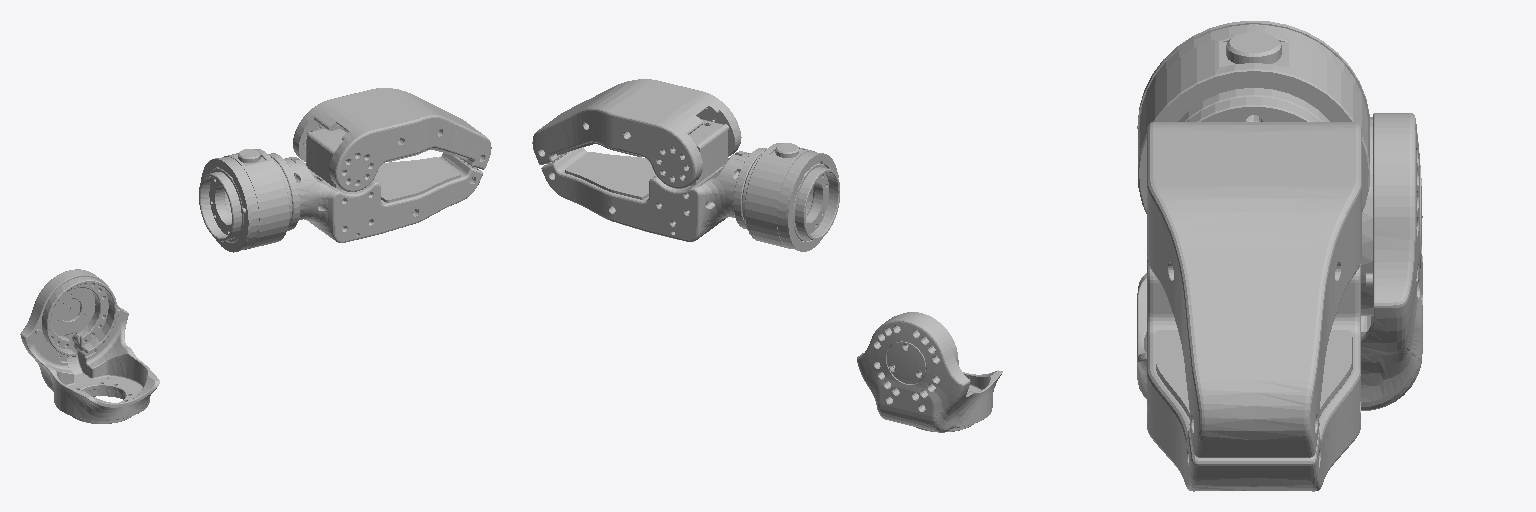
URDF robot description (qa01_description):
<?xml version="1.0" encoding="utf-8"?>
<!-- This URDF was automatically created by SolidWorks to URDF Exporter! Originally created by [author] ([email redacted]) 
     Commit Version: 1.5.1-0-g916b5db  Build Version: 1.5.7152.31018
     For more information, please see http://wiki.ros.org/sw_urdf_exporter -->
<robot name="qa01_description">
  <link name="world" />
  <joint name="world_fixed" type="fixed">
    <parent link="world" />
    <child link="base_link" />
  </joint>
  <link name="base_link">
    <inertial>
      <origin xyz="0.000195653402762227 -0.000162311522469217 0.0574958896482889" rpy="0 0 0" />
      <mass value="1.0" />
      <inertia ixx="0.00311361610491872" ixy="-4.99454350054416E-07" ixz="4.79136860967576E-05" iyy="0.00293646133501491" iyz="8.9155188763081E-07" izz="0.0026818264965758" />
    </inertial>
    <visual>
      <origin xyz="0 0 0" rpy="0 0 0" />
      <geometry>
        <mesh filename="package://qa01_description/meshes/base_link.dae" />
      </geometry>
      <material name="">
        <color rgba="0.752941176470588 0.752941176470588 0.752941176470588 1" />
      </material>
    </visual>
    <collision>
      <origin xyz="0 0 0" rpy="0 0 0" />
      <geometry>
        <mesh filename="package://qa01_description/meshes/base_link.dae" />
      </geometry>
    </collision>
  </link>
  <link name="Link1">
    <inertial>
      <origin xyz="3.3791E-05 0.030742 0.030107" rpy="0 0 0" />
      <mass value="1.0" />
      <inertia ixx="0.00097955" ixy="1.0431E-06" ixz="4.3103E-07" iyy="0.00091672" iyz="-0.00025756" izz="0.0008983" />
    </inertial>
    <visual>
      <origin xyz="0 0 0" rpy="0 0 0" />
      <geometry>
        <mesh filename="package://qa01_description/meshes/Link1.dae" />
      </geometry>
      <material name="">
        <color rgba="0.75294 0.75294 0.75294 1" />
      </material>
    </visual>
    <collision>
      <origin xyz="0 0 0" rpy="0 0 0" />
      <geometry>
        <mesh filename="package://qa01_description/meshes/Link1.dae" />
      </geometry>
    </collision>
  </link>
  <joint name="Joint1" type="revolute">
    <origin xyz="-0.00010406 0 0.1065" rpy="0 0 0" />
    <parent link="base_link" />
    <child link="Link1" />
    <axis xyz="0 0 1" />
    <dynamics damping="0.01" friction="0.2"/>
    <limit lower="-3.14" upper="3.14" effort="40" velocity="20" />
  </joint>
  <link name="Link2">
    <inertial>
      <origin xyz="-0.18482 -0.046183 0.00013831" rpy="0 0 0" />
      <mass value="1.0" />
      <inertia ixx="0.0050066" ixy="-0.00022613" ixz="-9.8666E-06" iyy="0.056029" iyz="-5.1141E-06" izz="0.055834" />
    </inertial>
    <visual>
      <origin xyz="0 0 0" rpy="0 0 0" />
      <geometry>
        <mesh filename="package://qa01_description/meshes/Link2.dae" />
      </geometry>
      <material name="">
        <color rgba="0.75294 0.75294 0.75294 1" />
      </material>
    </visual>
    <collision>
      <origin xyz="0 0 0" rpy="0 0 0" />
      <geometry>
        <mesh filename="package://qa01_description/meshes/Link2.dae" />
      </geometry>
    </collision>
  </link>
  <joint name="Joint2" type="revolute">
    <origin xyz="0 0.041 0.058" rpy="0 0 0" />
    <parent link="Link1" />
    <child link="Link2" />
    <axis xyz="0 1 0" />
    <dynamics damping="0.01" friction="0.2"/>
    <limit lower="-3.14" upper="3.14" effort="40" velocity="20" />
  </joint>
  <link name="Link3">
    <inertial>
      <origin xyz="0.077248 -0.026984 0.072742" rpy="0 0 0" />
      <mass value="1.0" />
      <inertia ixx="0.0032105" ixy="0.00021256" ixz="-0.001008" iyy="0.005396" iyz="0.0002511" izz="0.0038613" />
    </inertial>
    <visual>
      <origin xyz="0 0 0" rpy="0 0 0" />
      <geometry>
        <mesh filename="package://qa01_description/meshes/Link3.dae" />
      </geometry>
      <material name="">
        <color rgba="0.75294 0.75294 0.75294 1" />
      </material>
    </visual>
    <collision>
      <origin xyz="0 0 0" rpy="0 0 0" />
      <geometry>
        <mesh filename="package://qa01_description/meshes/Link3.dae" />
      </geometry>
    </collision>
  </link>
  <joint name="Joint3" type="revolute">
    <origin xyz="-0.41 -0.0095 0" rpy="0 0 0" />
    <parent link="Link2" />
    <child link="Link3" />
    <axis xyz="0 -1 0" />
    <dynamics damping="0.01" friction="0.2"/>
    <limit lower="-3.14" upper="3.14" effort="40" velocity="20" />
  </joint>
  <link name="Link4">
    <inertial>
      <origin xyz="0.19616 -0.0045978 1.2153E-05" rpy="0 0 0" />
      <mass value="1.0" />
      <inertia ixx="0.0024186" ixy="-0.00014288" ixz="6.5518E-07" iyy="0.012898" iyz="1.9994E-06" izz="0.012751" />
    </inertial>
    <visual>
      <origin xyz="0 0 0" rpy="0 0 0" />
      <geometry>
        <mesh filename="package://qa01_description/meshes/Link4.dae" />
      </geometry>
      <material name="">
        <color rgba="0.75294 0.75294 0.75294 1" />
      </material>
    </visual>
    <collision>
      <origin xyz="0 0 0" rpy="0 0 0" />
      <geometry>
        <mesh filename="package://qa01_description/meshes/Link4.dae" />
      </geometry>
    </collision>
  </link>
  <joint name="Joint4" type="revolute">
    <origin xyz="0.1415 -0.0315 0.085" rpy="0 0 0" />
    <parent link="Link3" />
    <child link="Link4" />
    <axis xyz="1 0 0" />
    <dynamics damping="0.01" friction="0.2"/>
    <limit lower="-3.14" upper="3.14" effort="40" velocity="20" />
  </joint>
  <link name="Link5">
    <inertial>
      <origin xyz="0.077697 -0.029029 -6.6015E-05" rpy="0 0 0" />
      <mass value="1.0" />
      <inertia ixx="0.0019348" ixy="0.00025161" ixz="-1.2763E-06" iyy="0.0035651" iyz="-1.7401E-06" izz="0.0031873" />
    </inertial>
    <visual>
      <origin xyz="0 0 0" rpy="0 0 0" />
      <geometry>
        <mesh filename="package://qa01_description/meshes/Link5.dae" />
      </geometry>
      <material name="">
        <color rgba="0.75294 0.75294 0.75294 1" />
      </material>
    </visual>
    <collision>
      <origin xyz="0 0 0" rpy="0 0 0" />
      <geometry>
        <mesh filename="package://qa01_description/meshes/Link5.dae" />
      </geometry>
    </collision>
  </link>
  <joint name="Joint5" type="revolute">
    <origin xyz="0.2495 0.0355 0" rpy="0 0 0" />
    <parent link="Link4" />
    <child link="Link5" />
    <axis xyz="0 1 0" />
    <dynamics damping="0.01" friction="0.2"/>
    <limit lower="-3.14" upper="3.14" effort="40" velocity="20" />
  </joint>
  <link name="Link6">
    <inertial>
      <origin xyz="0.020059 -8.4573E-06 0.00021617" rpy="0 0 0" />
      <mass value="1.0" />
      <inertia ixx="0.00080054" ixy="2.6845E-07" ixz="-1.2762E-06" iyy="0.00049114" iyz="-1.1576E-07" izz="0.00052629" />
    </inertial>
    <visual>
      <origin xyz="0 0 0" rpy="0 0 0" />
      <geometry>
        <mesh filename="package://qa01_description/meshes/Link6.dae" />
      </geometry>
      <material name="">
        <color rgba="0.75294 0.75294 0.75294 1" />
      </material>
    </visual>
    <collision>
      <origin xyz="0 0 0" rpy="0 0 0" />
      <geometry>
        <mesh filename="package://qa01_description/meshes/Link6.dae" />
      </geometry>
    </collision>
  </link>
  <joint name="Joint6" type="revolute">
    <origin xyz="0.1315 -0.0355 0" rpy="0 0 0" />
    <parent link="Link5" />
    <child link="Link6" />
    <axis xyz="1 0 0" />
    <dynamics damping="0.01" friction="0.2"/>
    <limit lower="-3.14" upper="3.14" effort="40" velocity="20" />
  </joint>
  <link name="GripperDownLink">
    <inertial>
      <origin xyz="0.069034 0.0009731 -0.010493" rpy="0 0 0" />
      <mass value="1.0" />
      <inertia ixx="0.00063236" ixy="-2.2107E-06" ixz="0.00032181" iyy="0.0028734" iyz="1.6985E-06" izz="0.0026368" />
    </inertial>
    <visual>
      <origin xyz="0 0 0" rpy="0 0 0" />
      <geometry>
        <mesh filename="package://qa01_description/meshes/GripperDownLink.dae" />
      </geometry>
      <material name="">
        <color rgba="0.75294 0.75294 0.75294 1" />
      </material>
    </visual>
    <collision>
      <origin xyz="0 0 0" rpy="0 0 0" />
      <geometry>
        <mesh filename="package://qa01_description/meshes/GripperDownLink.dae" />
      </geometry>
    </collision>
  </link>
  <joint name="GripperDownJoint" type="fixed">
    <origin xyz="0.044 0 -0.00050971" rpy="0 0 0" />
    <parent link="Link6" />
    <child link="GripperDownLink" />
    <axis xyz="0 0 0" />
    <limit lower="0" upper="0" effort="0" velocity="0" />
  </joint>
  <link name="GripperUpLink">
    <inertial>
      <origin xyz="0.055484 -0.032158 0.0059289" rpy="0 0 0" />
      <mass value="1.0" />
      <inertia ixx="0.00036094" ixy="-1.028E-05" ixz="0.00029972" iyy="0.0017974" iyz="1.3486E-06" izz="0.0017027" />
    </inertial>
    <visual>
      <origin xyz="0 0 0" rpy="0 0 0" />
      <geometry>
        <mesh filename="package://qa01_description/meshes/GripperUpLink.dae" />
      </geometry>
      <material name="">
        <color rgba="0.75294 0.75294 0.75294 1" />
      </material>
    </visual>
    <collision>
      <origin xyz="0 0 0" rpy="0 0 0" />
      <geometry>
        <mesh filename="package://qa01_description/meshes/GripperUpLink.dae" />
      </geometry>
    </collision>
  </link>
  <joint name="GripperUpJoint" type="revolute">
    <origin xyz="0.057 0.0322 0.02251" rpy="0 0 0" />
    <parent link="GripperDownLink" />
    <child link="GripperUpLink" />
    <axis xyz="0 -1 0" />
    <limit lower="-3.14" upper="3.14" effort="40" velocity="20" />
  </joint>
  <transmission name="trans_Joint1">
    <type>transmission_interface/SimpleTransmission</type>
    <joint name="Joint1">
      <hardwareInterface>hardware_interface/PositionJointInterface</hardwareInterface>
    </joint>
    <actuator name="Joint1_motor">
      <hardwareInterface>hardware_interface/PositionJointInterface</hardwareInterface>
      <mechanicalReduction>1</mechanicalReduction>
    </actuator>
  </transmission>
  <transmission name="trans_Joint2">
    <type>transmission_interface/SimpleTransmission</type>
    <joint name="Joint2">
      <hardwareInterface>hardware_interface/PositionJointInterface</hardwareInterface>
    </joint>
    <actuator name="Joint2_motor">
      <hardwareInterface>hardware_interface/PositionJointInterface</hardwareInterface>
      <mechanicalReduction>1</mechanicalReduction>
    </actuator>
  </transmission>
  <transmission name="trans_Joint3">
    <type>transmission_interface/SimpleTransmission</type>
    <joint name="Joint3">
      <hardwareInterface>hardware_interface/PositionJointInterface</hardwareInterface>
    </joint>
    <actuator name="Joint3_motor">
      <hardwareInterface>hardware_interface/PositionJointInterface</hardwareInterface>
      <mechanicalReduction>1</mechanicalReduction>
    </actuator>
  </transmission>
  <transmission name="trans_Joint4">
    <type>transmission_interface/SimpleTransmission</type>
    <joint name="Joint4">
      <hardwareInterface>hardware_interface/PositionJointInterface</hardwareInterface>
    </joint>
    <actuator name="Joint4_motor">
      <hardwareInterface>hardware_interface/PositionJointInterface</hardwareInterface>
      <mechanicalReduction>1</mechanicalReduction>
    </actuator>
  </transmission>
  <transmission name="trans_Joint5">
    <type>transmission_interface/SimpleTransmission</type>
    <joint name="Joint5">
      <hardwareInterface>hardware_interface/PositionJointInterface</hardwareInterface>
    </joint>
    <actuator name="Joint5_motor">
      <hardwareInterface>hardware_interface/PositionJointInterface</hardwareInterface>
      <mechanicalReduction>1</mechanicalReduction>
    </actuator>
  </transmission>
  <transmission name="trans_Joint6">
    <type>transmission_interface/SimpleTransmission</type>
    <joint name="Joint6">
      <hardwareInterface>hardware_interface/PositionJointInterface</hardwareInterface>
    </joint>
    <actuator name="Joint6_motor">
      <hardwareInterface>hardware_interface/PositionJointInterface</hardwareInterface>
      <mechanicalReduction>1</mechanicalReduction>
    </actuator>
  </transmission>
  <transmission name="trans_GripperUpJoint">
    <type>transmission_interface/SimpleTransmission</type>
    <joint name="GripperUpJoint">
      <hardwareInterface>hardware_interface/PositionJointInterface</hardwareInterface>
    </joint>
    <actuator name="GripperUpJoint_motor">
      <hardwareInterface>hardware_interface/PositionJointInterface</hardwareInterface>
      <mechanicalReduction>1</mechanicalReduction>
    </actuator>
  </transmission>
  <gazebo>
    <plugin name="gazebo_ros_control" filename="libgazebo_ros_control.so">
      <robotNamespace>/</robotNamespace>
    </plugin>
  </gazebo>
</robot>

--- Facts derived from the render (not from the file) ---
3 views of the same robot in one strip: view 1: azimuth 30°, elevation 25°; view 2: azimuth 150°, elevation 25°; view 3: azimuth 270°, elevation 25° (orthographic).
Robot: qa01_description — 10 links, 9 joints (7 revolute, 2 fixed); root link world; default pose: every joint at zero.
Links seen in each view (by area): view 1: Link1, GripperDownLink, GripperUpLink, Link6; view 2: GripperDownLink, GripperUpLink, Link1, Link6; view 3: GripperUpLink, GripperDownLink, Link1, Link6.
Link boxes in pixels (box(x1,y1,x2,y2)): Link1: box(20, 269, 159, 423); GripperDownLink: box(268, 124, 482, 242); GripperUpLink: box(293, 88, 491, 191); Link6: box(199, 149, 292, 252); GripperDownLink: box(541, 117, 766, 241); GripperUpLink: box(532, 79, 741, 188); Link1: box(857, 312, 1002, 432); Link6: box(742, 143, 839, 251); GripperUpLink: box(1147, 122, 1361, 457); GripperDownLink: box(1147, 97, 1360, 491); Link1: box(1137, 113, 1422, 410); Link6: box(1137, 21, 1369, 213).
Bounding box of the posed robot: 0.3934 × 0.093 × 0.2041 m (x, y, z).
4 mesh visuals loaded from 9 distinct referenced files (4 Collada DAE); not drawn: 5 (reference not matched to a file when rendering).